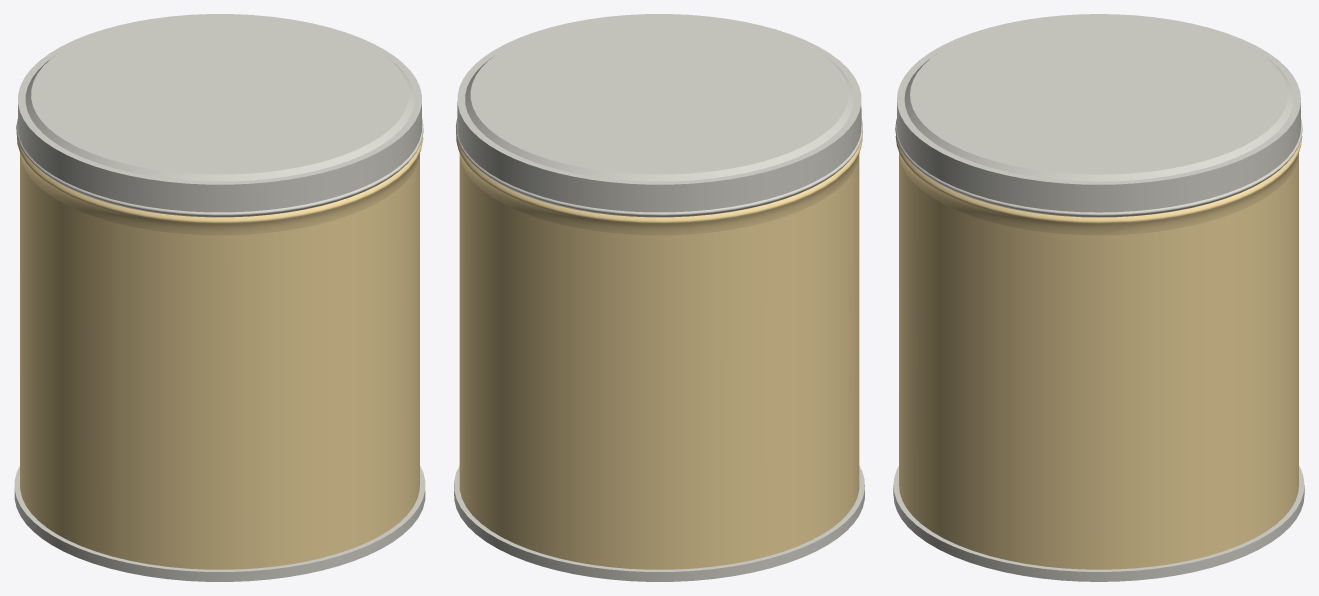
The model's file is 976_can.glb.
3 renders of one model, left to right at view 1: azimuth 30°, elevation 25°; view 2: azimuth 150°, elevation 25°; view 3: azimuth 270°, elevation 25°, orthographic.
Visible parts, largest first — view 1: Body, huta; view 2: Body, huta; view 3: Body, huta.
Part boxes in pixels (left/top/right/bottom): Body: left=14, top=134, right=425, bottom=581; huta: left=16, top=14, right=423, bottom=217; Body: left=454, top=136, right=864, bottom=581; huta: left=455, top=14, right=863, bottom=217; Body: left=893, top=136, right=1304, bottom=581; huta: left=895, top=14, right=1302, bottom=217.
Bounding box in the file's own units: 0.075 × 0.0806 × 0.075.
